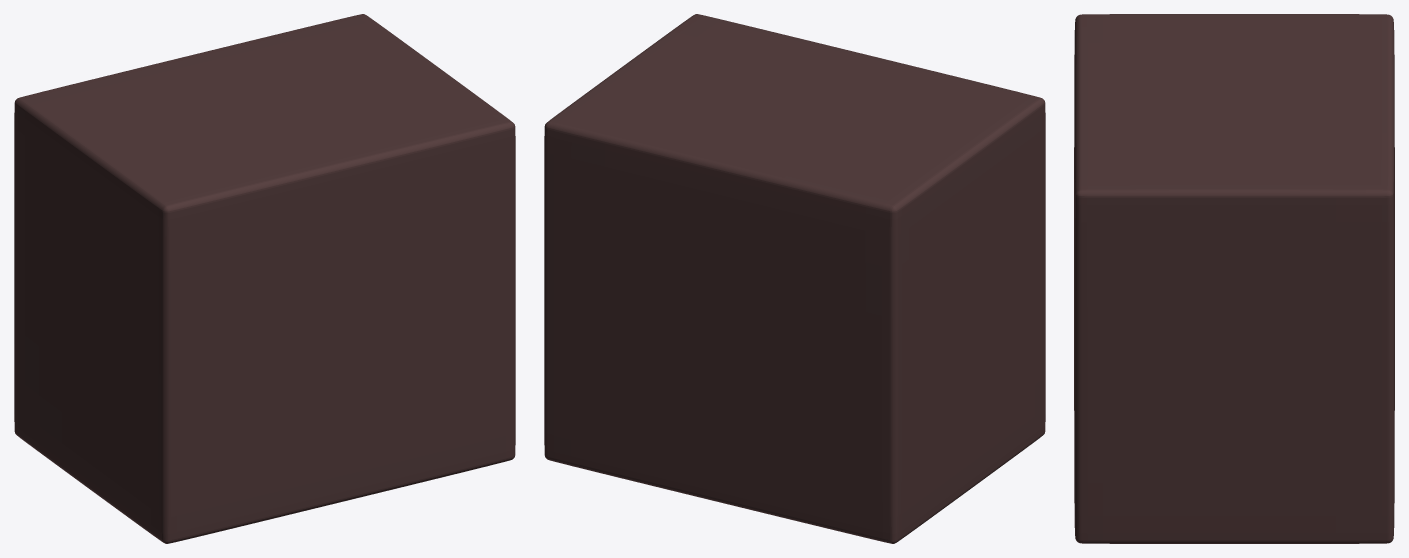
File: lava_rock.glb
3 renders of one model, left to right at view 1: azimuth 30°, elevation 25°; view 2: azimuth 150°, elevation 25°; view 3: azimuth 270°, elevation 25°, orthographic. The views are drawn at different scales.
Parts seen in each view (by area): view 1: LavaRock; view 2: LavaRock; view 3: LavaRock.
Part boxes in pixels (left/top/right/bottom): LavaRock: left=14, top=14, right=515, bottom=543; LavaRock: left=544, top=14, right=1045, bottom=543; LavaRock: left=1074, top=14, right=1394, bottom=543.
Bounding box in the file's own units: 0.5998 × 0.5498 × 0.4498.
